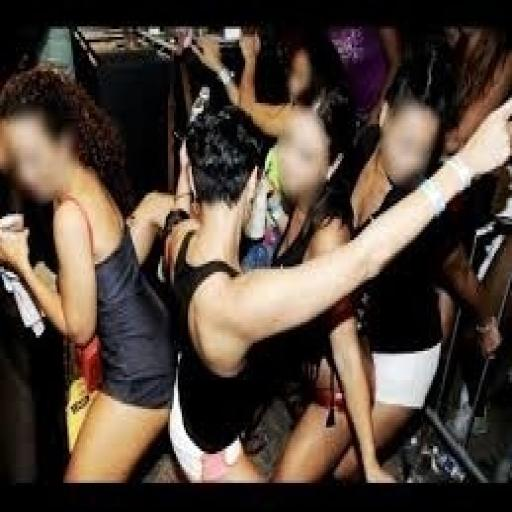dancing: (112, 62, 512, 512)
